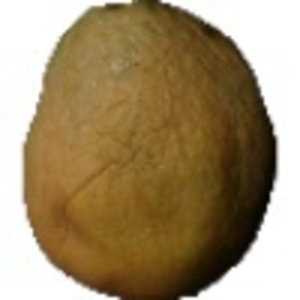mamão: (19, 3, 283, 296)
